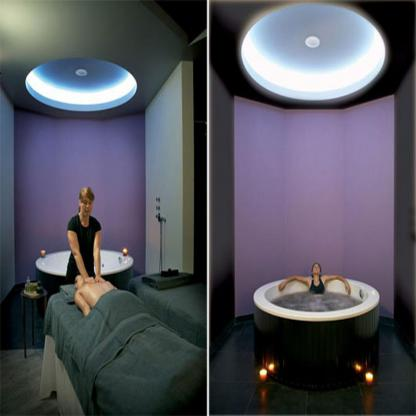face: (82, 196, 94, 217), (75, 277, 83, 290), (313, 265, 321, 274)
